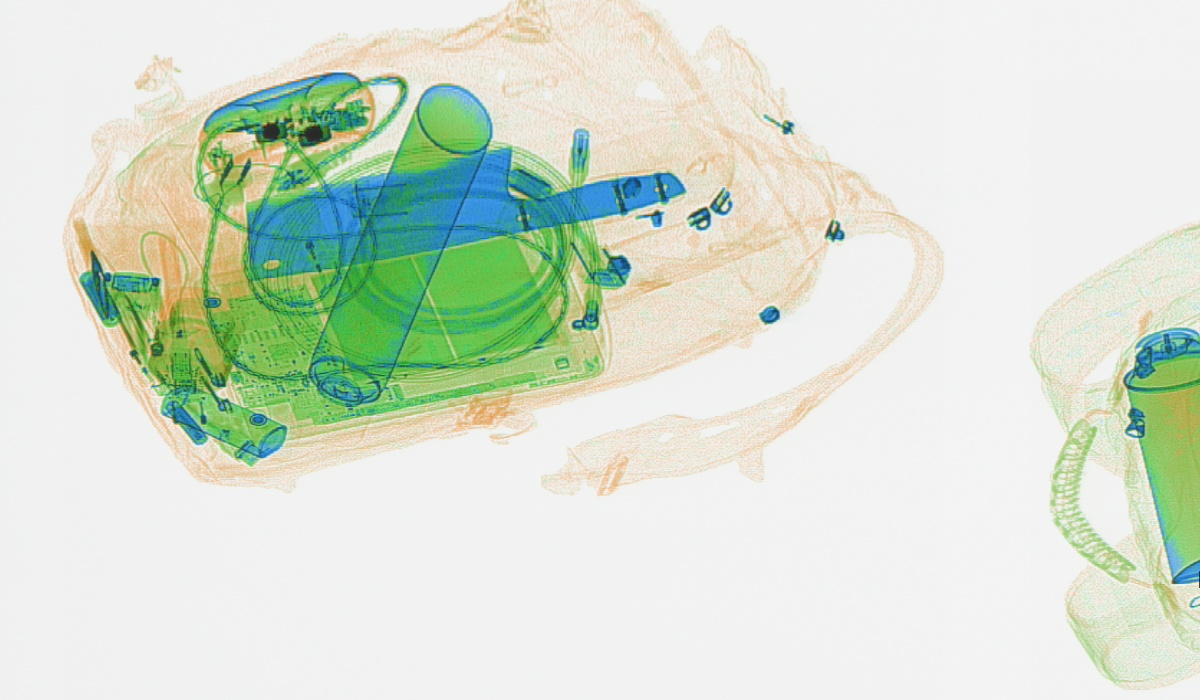knife: (243, 141, 685, 280)
pressure: (302, 81, 493, 407), (1120, 324, 1197, 584)
